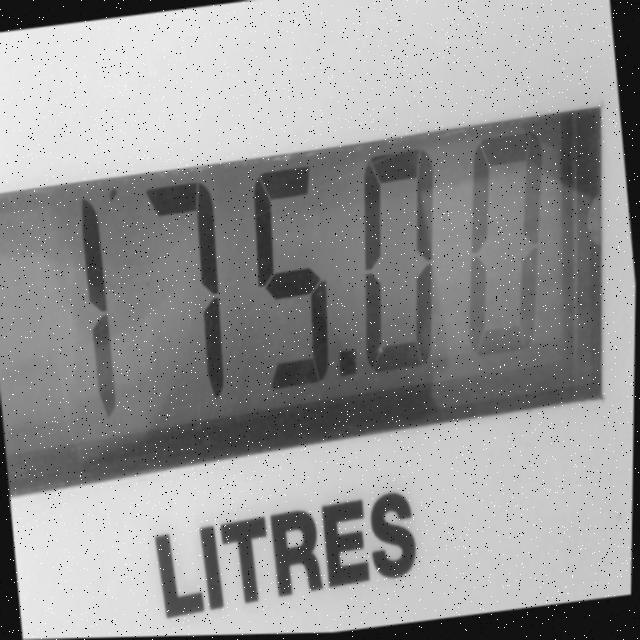.: (329, 340, 371, 394)
0: (441, 117, 576, 383), (334, 132, 455, 384)
1: (57, 191, 142, 429)
5: (228, 162, 345, 410)
7: (124, 168, 240, 410)
